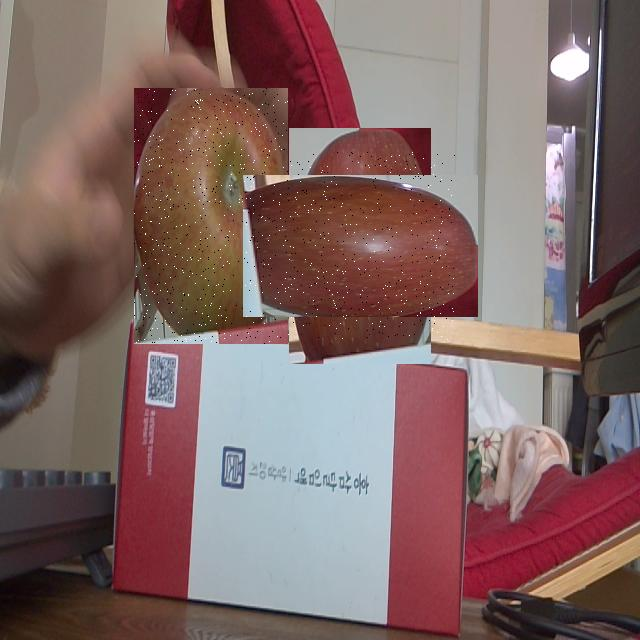apple: (134, 88, 288, 344), (265, 152, 455, 340)
